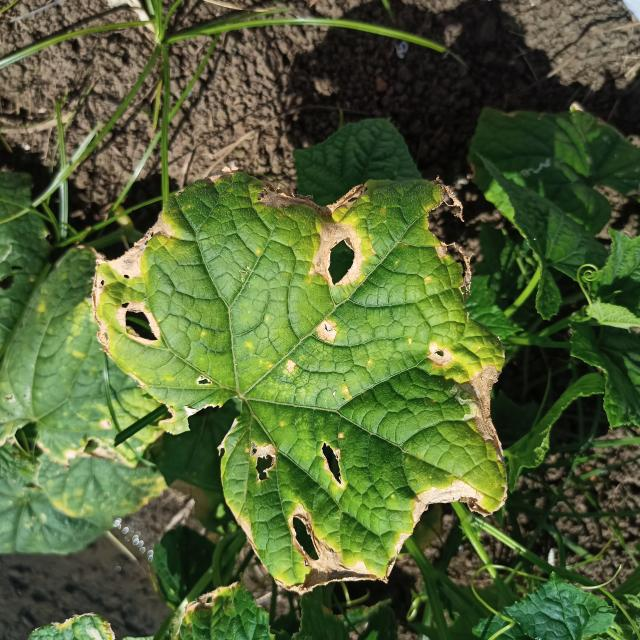disease_cucumber: (95, 172, 508, 588)
